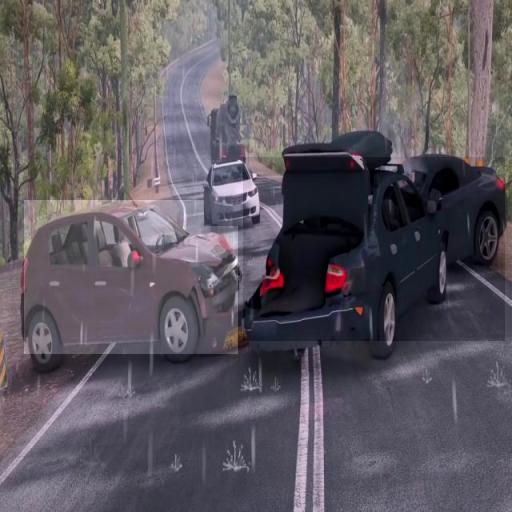小汽车: (24, 200, 238, 354), (204, 160, 260, 226)
小汽车撞小汽车: (243, 157, 505, 341)
